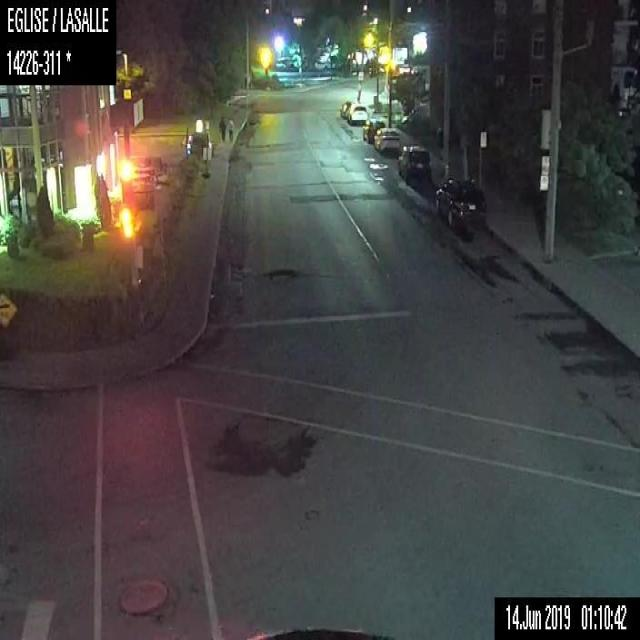pedestrian: (218, 116, 225, 140), (227, 116, 234, 140)
vehicle: (434, 176, 486, 224), (396, 144, 431, 181), (373, 126, 400, 153), (361, 117, 385, 143), (346, 102, 368, 124), (339, 100, 357, 118)
